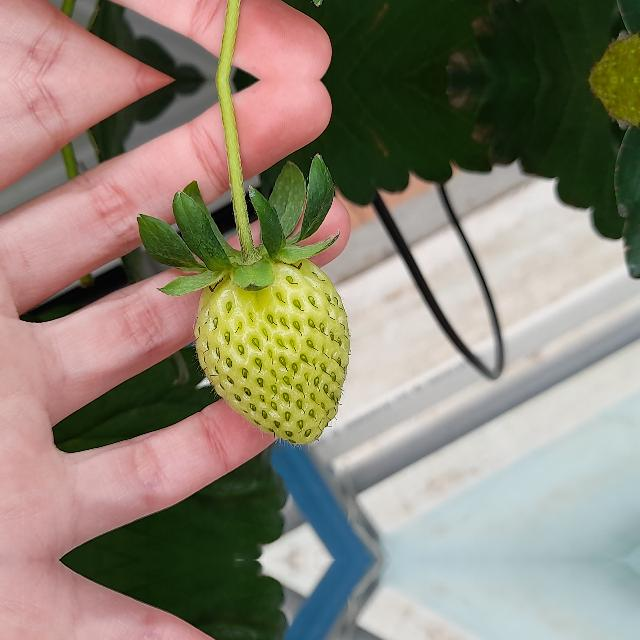Health_25: (194, 258, 350, 444)
